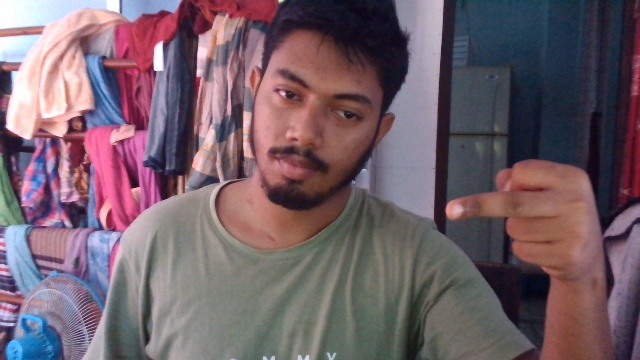fucku: (438, 152, 612, 289)
